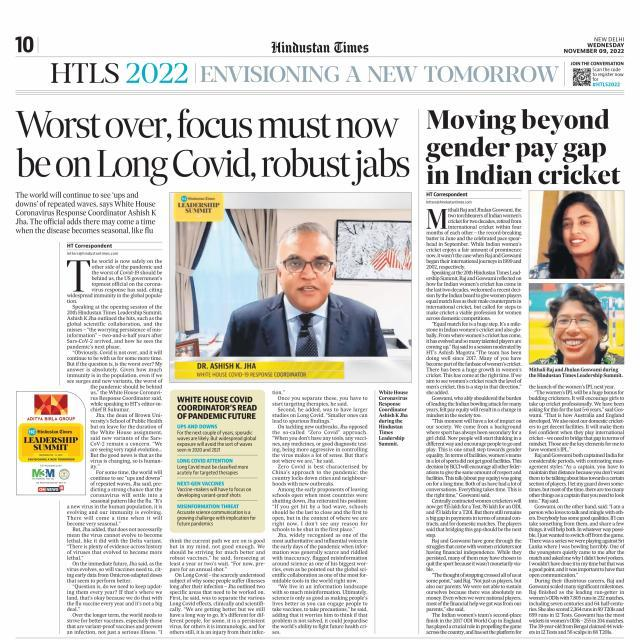Article: (9, 99, 414, 640), (419, 100, 631, 640)
Body: (426, 207, 524, 636), (527, 383, 626, 636), (270, 390, 368, 636), (65, 504, 164, 636), (64, 258, 166, 384), (169, 536, 267, 638), (89, 384, 164, 504), (173, 423, 260, 455), (175, 502, 258, 528), (176, 479, 255, 499), (176, 456, 250, 476)
Date: (562, 42, 626, 54)
Heading: (14, 105, 412, 187), (424, 106, 622, 186)
Highlights: (14, 190, 158, 237), (176, 395, 259, 420), (378, 387, 409, 448)
Image: (178, 222, 412, 358), (528, 190, 624, 279), (528, 283, 624, 364), (14, 390, 86, 494)
Name: (46, 61, 562, 87), (269, 38, 370, 54)
